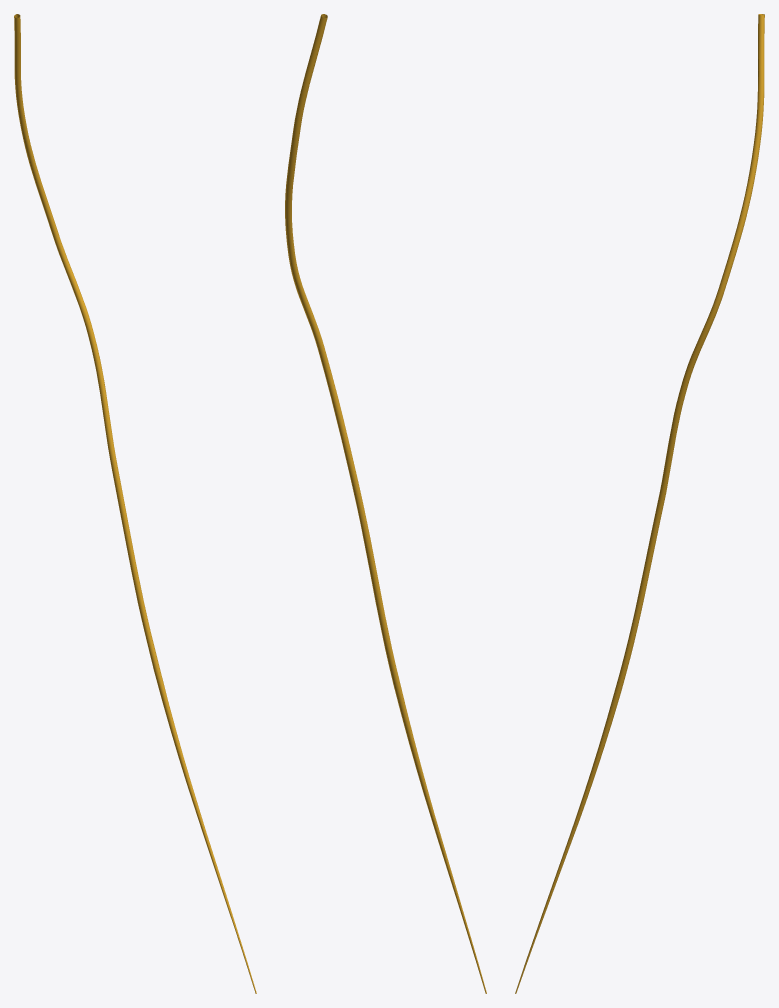
Rendered from nervoso-posterior-interosseous-nerve-of-forearm-r.glb.
3 views of the same model, side by side, from view 1: azimuth 90°, elevation 25°; view 2: azimuth 150°, elevation 25°; view 3: azimuth 270°, elevation 25° (orthographic). The views are drawn at different scales.
Parts seen in each view (by area): view 1: Posterior interosseous nerve of forearm.r; view 2: Posterior interosseous nerve of forearm.r; view 3: Posterior interosseous nerve of forearm.r.
Part boxes in pixels (x1=…): Posterior interosseous nerve of forearm.r: x1=14, y1=14, x2=256, y2=993; Posterior interosseous nerve of forearm.r: x1=285, y1=14, x2=486, y2=993; Posterior interosseous nerve of forearm.r: x1=515, y1=14, x2=764, y2=993.
Bounding box in the file's own units: 0.0143 × 0.1673 × 0.0381.
